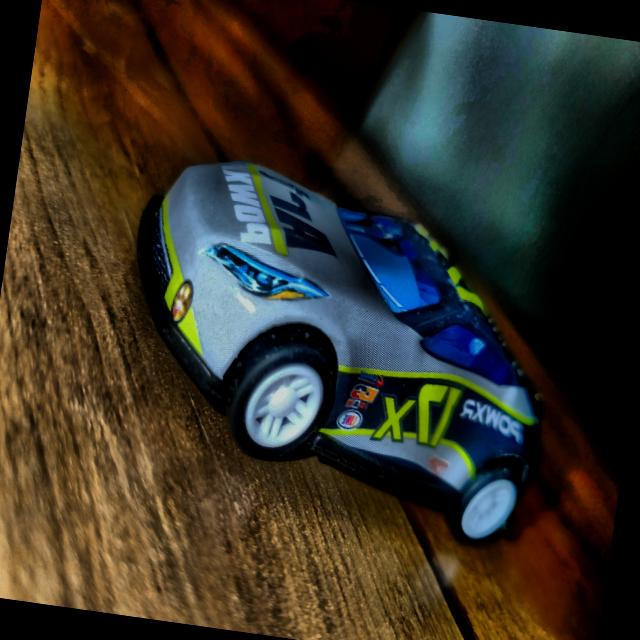Car: (103, 151, 571, 548)
